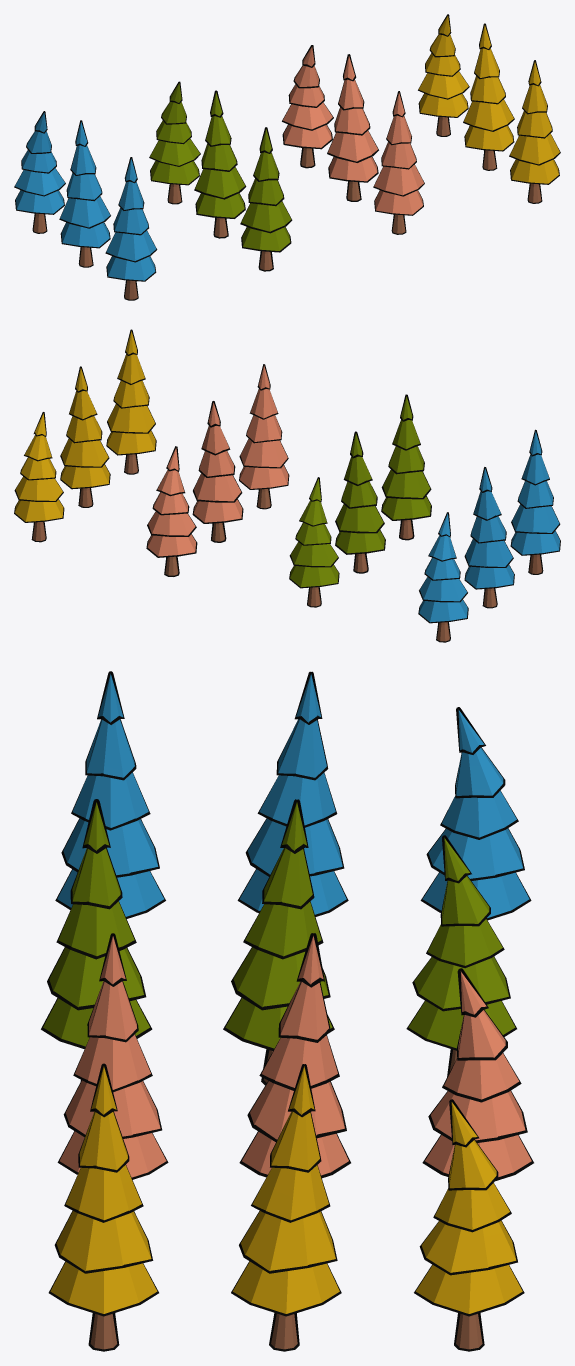
File: Toon Trees.fbx
3 renders of one model, top to bottom at view 1: azimuth 30°, elevation 25°; view 2: azimuth 150°, elevation 25°; view 3: azimuth 270°, elevation 25°, orthographic. The views are drawn at different scales.
Parts seen in each view (by area): view 1: Lowpoly_Pine_02_Green, Lowpoly_Pine_02_Orange, Lowpoly_Pine_02_Blue, Lowpoly_Pine_02_Yellow, Lowpoly_Pine_01_Green, Lowpoly_Pine_01_Yellow, Lowpoly_Pine_01_Blue_, Lowpoly_Pine_01_Orange, Lowpoly_Pine_03_Orange, Lowpoly_Pine_03_Green, Lowpoly_Pine_03_Blue, Lowpoly_Pine_03_Yellow; view 2: Lowpoly_Pine_01_Green, Lowpoly_Pine_01_Blue_, Lowpoly_Pine_01_Yellow, Lowpoly_Pine_01_Orange, Lowpoly_Pine_02_Green, Lowpoly_Pine_02_Orange, Lowpoly_Pine_02_Blue, Lowpoly_Pine_02_Yellow, Lowpoly_Pine_03_Orange, Lowpoly_Pine_03_Green, Lowpoly_Pine_03_Yellow, Lowpoly_Pine_03_Blue; view 3: Lowpoly_Pine_01_Yellow, Lowpoly_Pine_02_Yellow, Lowpoly_Pine_03_Yellow, Lowpoly_Pine_02_Green, Lowpoly_Pine_01_Green, Lowpoly_Pine_02_Orange, Lowpoly_Pine_01_Orange, Lowpoly_Pine_03_Green, Lowpoly_Pine_01_Blue_, Lowpoly_Pine_02_Blue, Lowpoly_Pine_03_Orange, Lowpoly_Pine_03_Blue.
Part boxes in pixels (x1,y1,x2,y2): Lowpoly_Pine_02_Green: (194,90,246,238); Lowpoly_Pine_02_Orange: (327,54,378,201); Lowpoly_Pine_02_Blue: (59,120,110,267); Lowpoly_Pine_02_Yellow: (463,23,514,170); Lowpoly_Pine_01_Green: (240,127,292,271); Lowpoly_Pine_01_Yellow: (509,60,560,203); Lowpoly_Pine_01_Blue_: (105,157,157,300); Lowpoly_Pine_01_Orange: (373,91,424,234); Lowpoly_Pine_03_Orange: (282,45,333,168); Lowpoly_Pine_03_Green: (149,81,200,204); Lowpoly_Pine_03_Blue: (14,111,65,233); Lowpoly_Pine_03_Yellow: (418,14,469,136); Lowpoly_Pine_01_Green: (381,394,431,540); Lowpoly_Pine_01_Blue_: (510,429,560,574); Lowpoly_Pine_01_Yellow: (106,329,156,474); Lowpoly_Pine_01_Orange: (239,364,289,509); Lowpoly_Pine_02_Green: (335,431,385,573); Lowpoly_Pine_02_Orange: (192,401,243,542); Lowpoly_Pine_02_Blue: (464,467,514,608); Lowpoly_Pine_02_Yellow: (60,366,110,507); Lowpoly_Pine_03_Orange: (146,446,197,576); Lowpoly_Pine_03_Green: (289,477,339,607); Lowpoly_Pine_03_Yellow: (14,412,64,542); Lowpoly_Pine_03_Blue: (418,512,468,642); Lowpoly_Pine_01_Yellow: (48,1063,158,1351); Lowpoly_Pine_02_Yellow: (231,1064,341,1351); Lowpoly_Pine_03_Yellow: (414,1099,524,1351); Lowpoly_Pine_02_Green: (223,799,334,1085); Lowpoly_Pine_01_Green: (41,799,152,1081); Lowpoly_Pine_02_Orange: (239,933,350,1178); Lowpoly_Pine_01_Orange: (57,933,168,1179); Lowpoly_Pine_03_Green: (406,835,516,1076); Lowpoly_Pine_01_Blue_: (55,671,165,918); Lowpoly_Pine_02_Blue: (237,671,348,916); Lowpoly_Pine_03_Orange: (422,968,533,1181); Lowpoly_Pine_03_Blue: (420,707,531,920).
Size of the model in its own units: 1630 by 487 by 774.
Materials: 7 (3 with a texture image).
